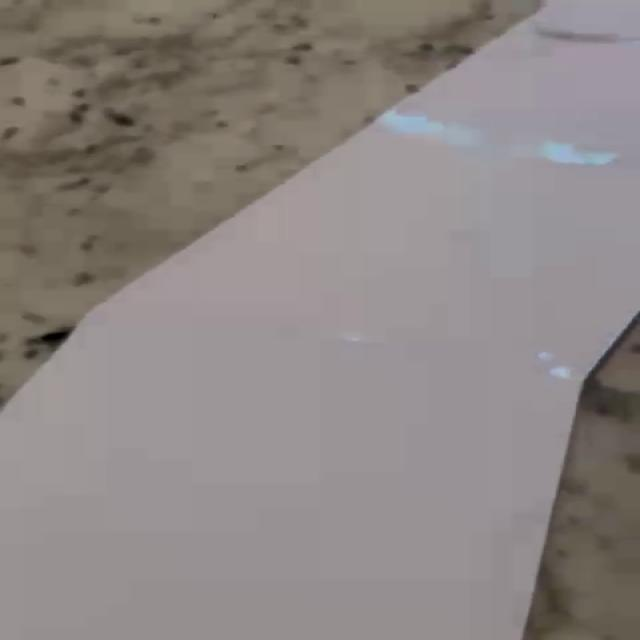road: (0, 0, 640, 640)
